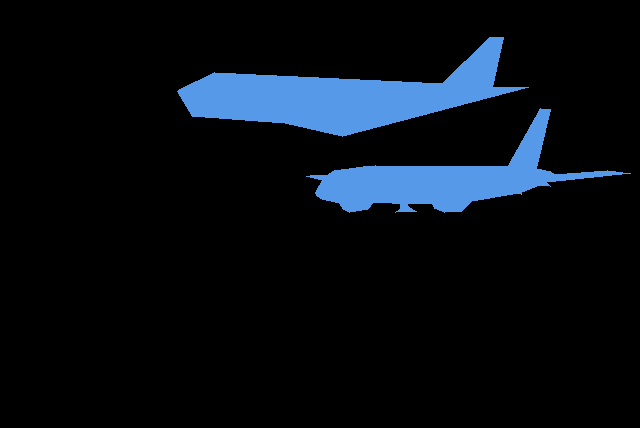Airplane: (177, 37, 529, 136), (306, 108, 630, 212)
